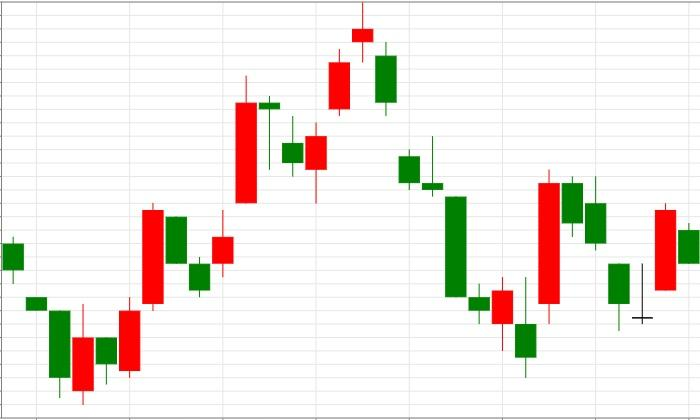evening_star_fall: (282, 2, 396, 202)
inverse_hammer_rise: (375, 42, 536, 378)
